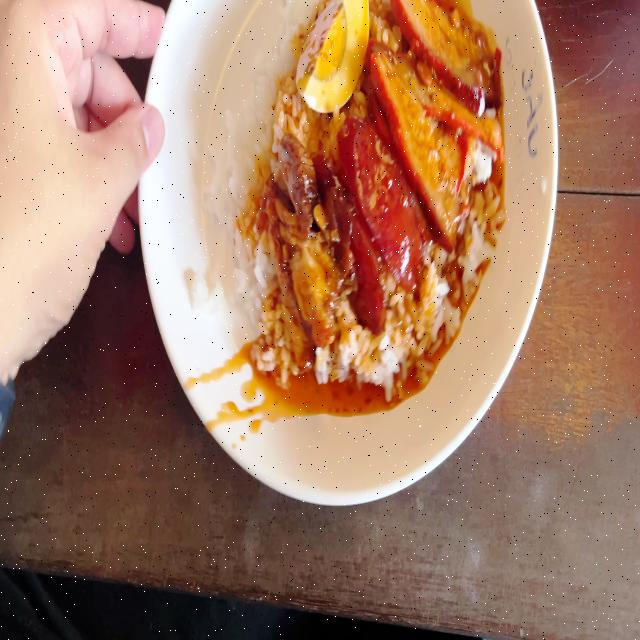boiled_egg: (299, 0, 371, 106)
chainese_sausage: (325, 124, 421, 324)
crispy_pork: (271, 139, 326, 339)
red_pork: (382, 0, 484, 209)
red_pork_and_crispy_pork: (218, 0, 501, 374)
rice: (221, 40, 275, 328), (264, 0, 294, 129)
